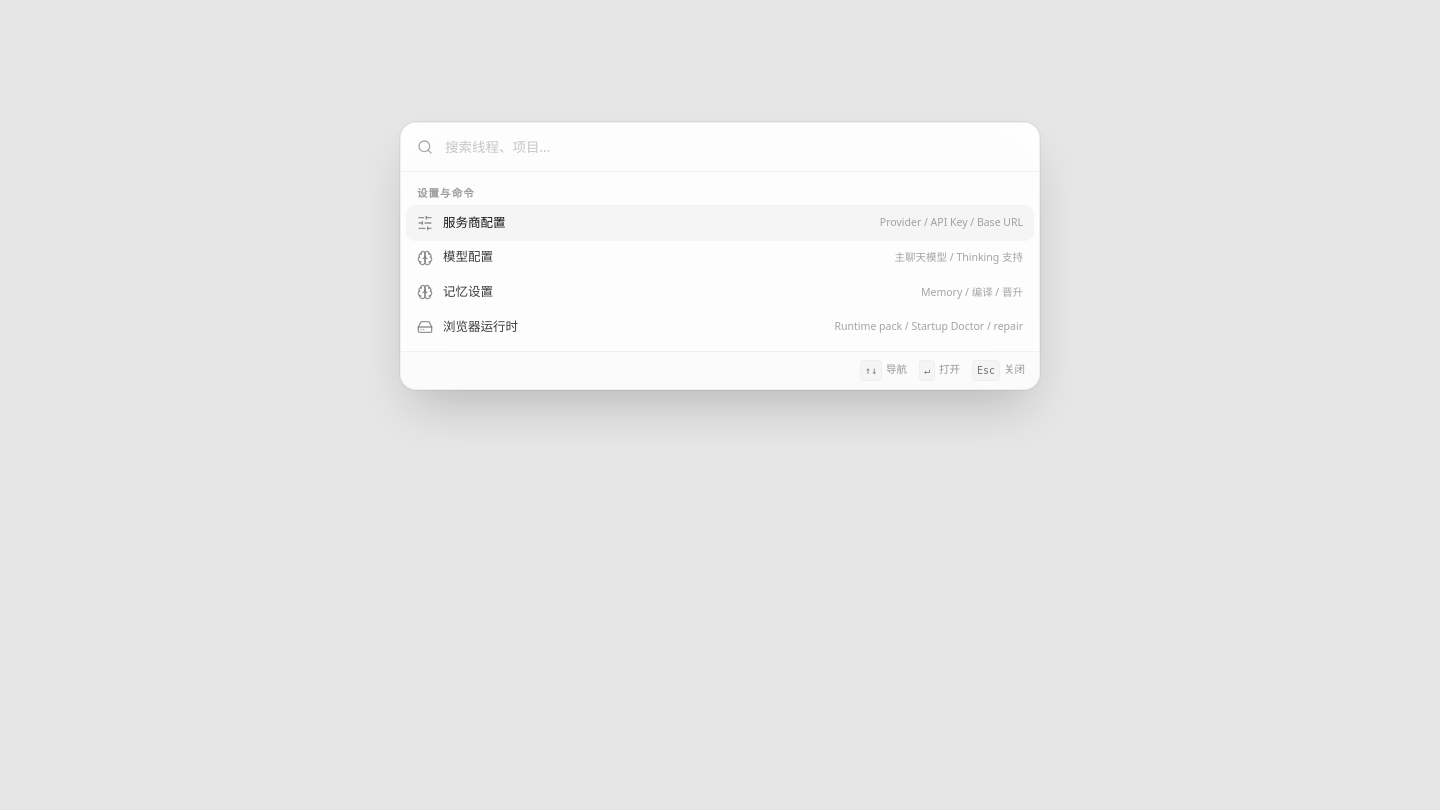
Scenario: SearchPalette — cross-workspace grouped render › puts the active workspace section first
Type "hello" into the dropdown with placeholder "搜索线程、项目..." at x=734, y=147, box [445,136,1023,157]
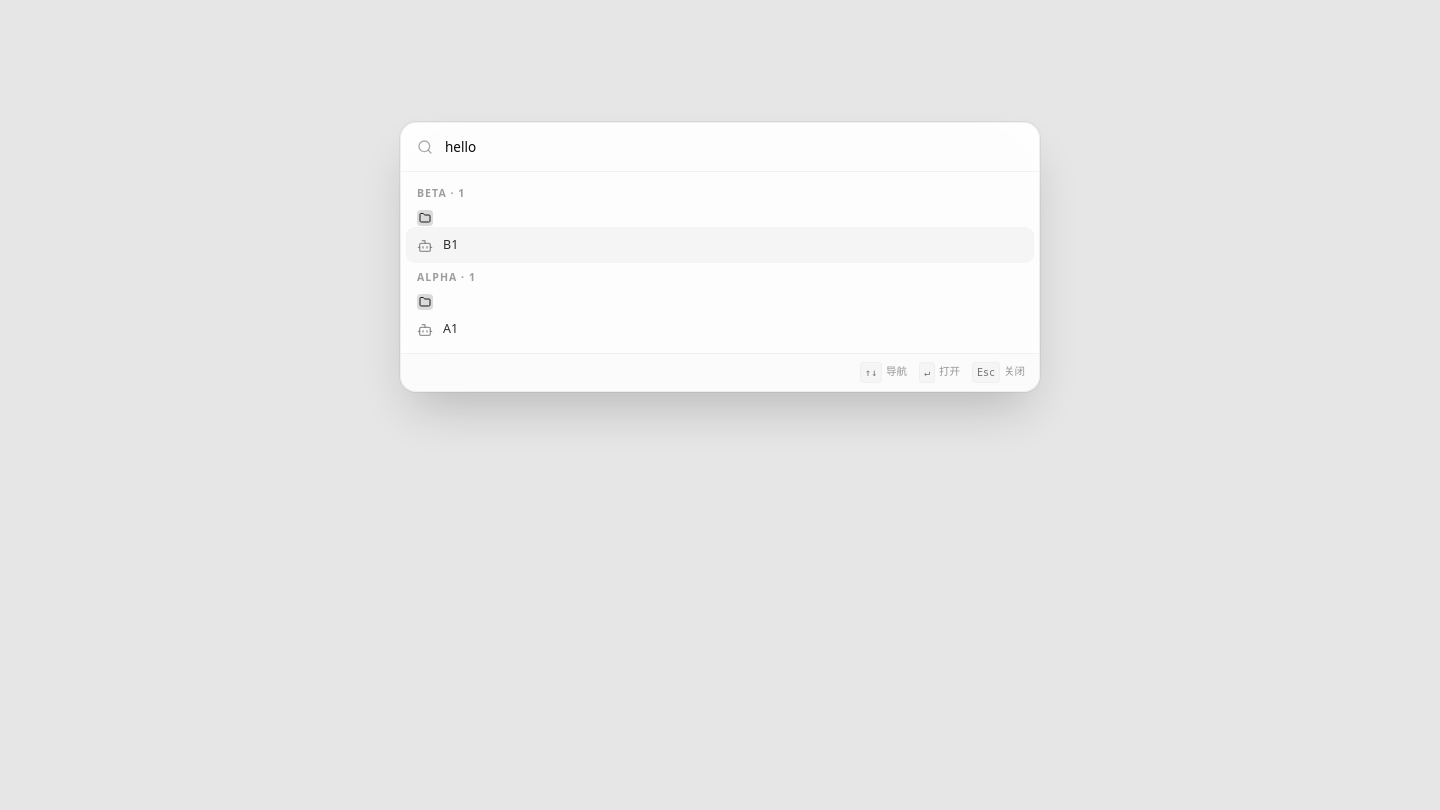
Result: the text "Beta · 1" is shown at [417,186,465,200]
Result: the text "Alpha · 1" is shown at [417,270,476,284]
